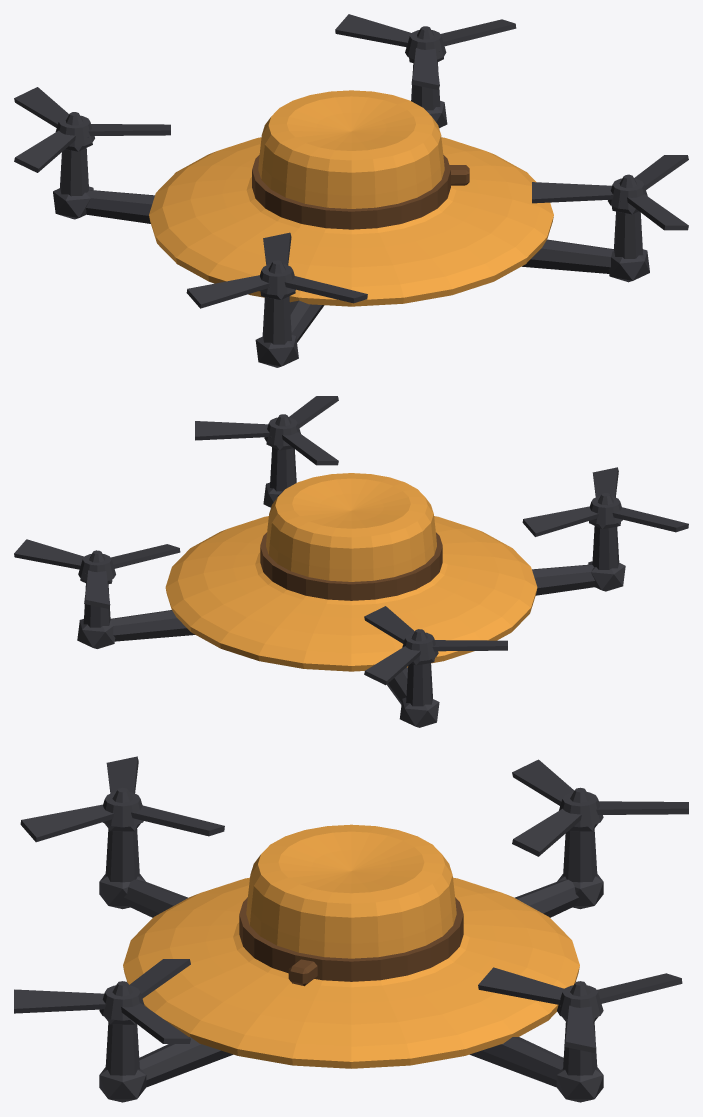
File: drone.glb
3 views of the same model, one above another, from view 1: azimuth 30°, elevation 25°; view 2: azimuth 150°, elevation 25°; view 3: azimuth 270°, elevation 25° (orthographic). The views are drawn at different scales.
Parts seen in each view (by area): view 1: body, frame, hatband, rotor_3, rotor_0, rotor_1, rotor_2; view 2: body, frame, hatband, rotor_3, rotor_0, rotor_1, rotor_2; view 3: body, frame, hatband, rotor_3, rotor_0, rotor_1, rotor_2.
Part boxes in pixels (x1=…): body: x1=149, y1=90, x2=553, y2=306; frame: x1=53, y1=50, x2=649, y2=367; hatband: x1=252, y1=155, x2=469, y2=229; rotor_3: x1=532, y1=155, x2=688, y2=230; rotor_0: x1=335, y1=14, x2=516, y2=89; rotor_1: x1=14, y1=87, x2=170, y2=172; rotor_2: x1=186, y1=232, x2=367, y2=308; body: x1=165, y1=473, x2=537, y2=671; frame: x1=77, y1=437, x2=625, y2=727; hatband: x1=260, y1=532, x2=442, y2=600; rotor_3: x1=195, y1=396, x2=338, y2=465; rotor_0: x1=14, y1=539, x2=180, y2=608; rotor_1: x1=364, y1=606, x2=507, y2=685; rotor_2: x1=522, y1=467, x2=688, y2=536; body: x1=123, y1=824, x2=579, y2=1068; frame: x1=99, y1=823, x2=603, y2=1102; hatband: x1=239, y1=897, x2=463, y2=986; rotor_3: x1=14, y1=959, x2=190, y2=1043; rotor_0: x1=478, y1=967, x2=682, y2=1053; rotor_1: x1=512, y1=759, x2=688, y2=856; rotor_2: x1=20, y1=756, x2=224, y2=842.
Size of the model in its own units: 0.9807 by 0.238 by 0.9807.
